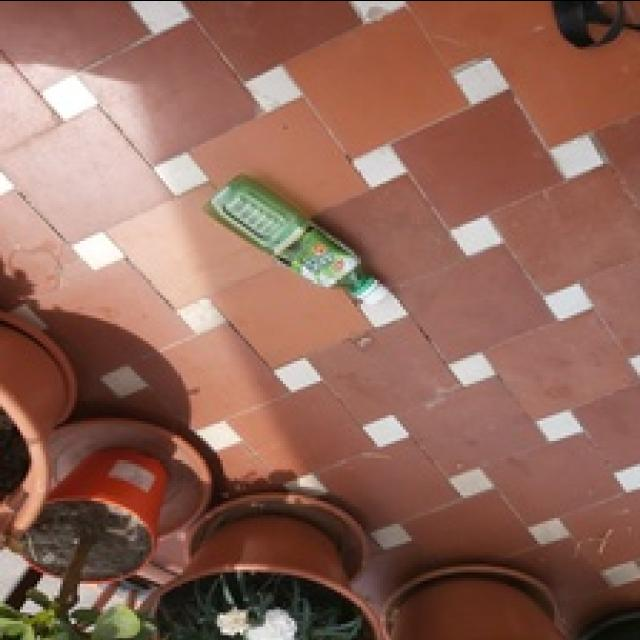寶特瓶: (205, 166, 417, 332)
